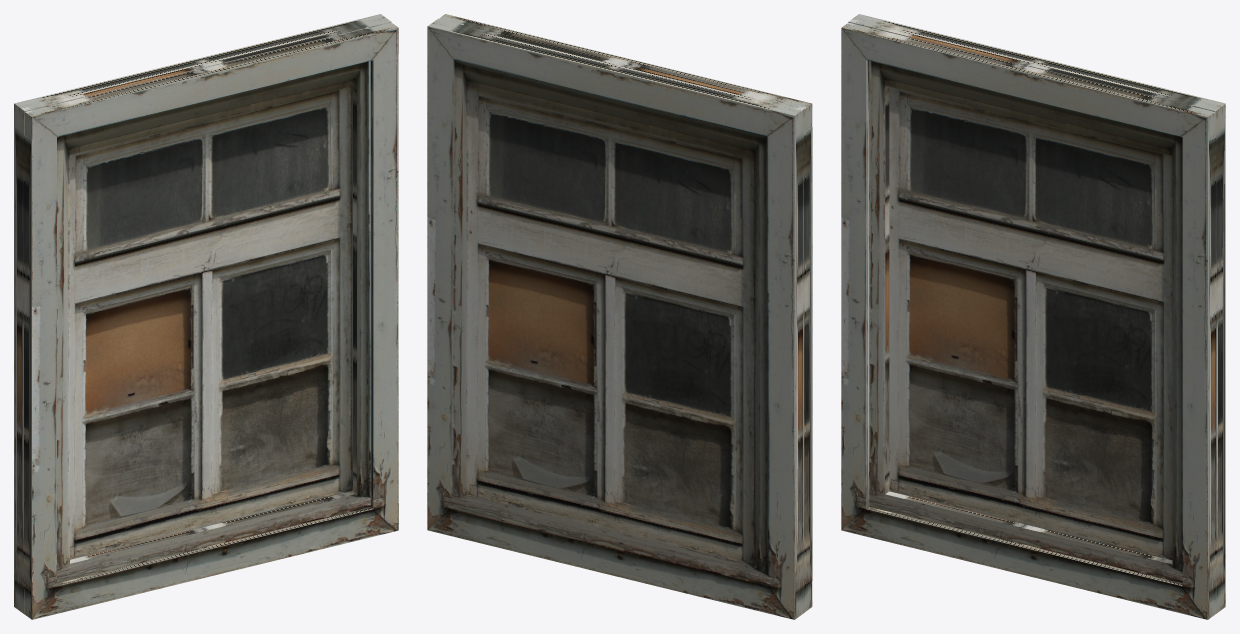
Rendered from ext_window.FBX.
The picture shows the model from 3 angles, left to right: view 1: azimuth 30°, elevation 25°; view 2: azimuth 150°, elevation 25°; view 3: azimuth 330°, elevation 25°; orthographic projection.
Parts seen in each view (by area): view 1: Box001; view 2: Box001; view 3: Box001.
Part boxes in pixels (bbox=[...]): Box001: bbox=[14, 14, 398, 619]; Box001: bbox=[427, 14, 812, 619]; Box001: bbox=[841, 14, 1225, 619].
Size of the model in its own units: 0.5108 by 0.0431 by 0.6699.
Materials: 1 (1 with a texture image).
